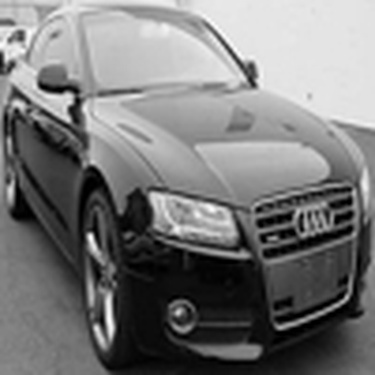car: (1, 12, 369, 357)
